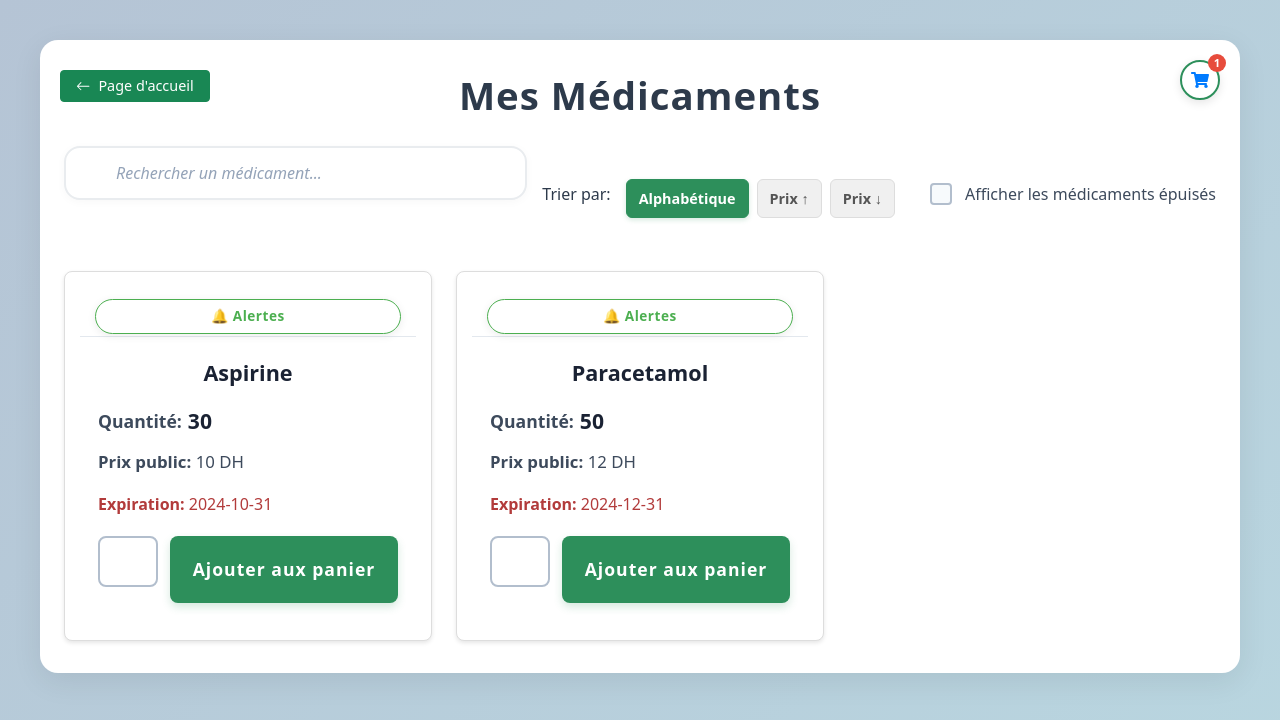
MesMedicaments Component › filters medicaments by search term
Expected: the heading "Mes Médicaments" is shown, [459, 69, 821, 121]
# Type in the search box
Type "para" into the field with placeholder "Rechercher un médicament..." at (296, 173), box [64, 146, 527, 200]
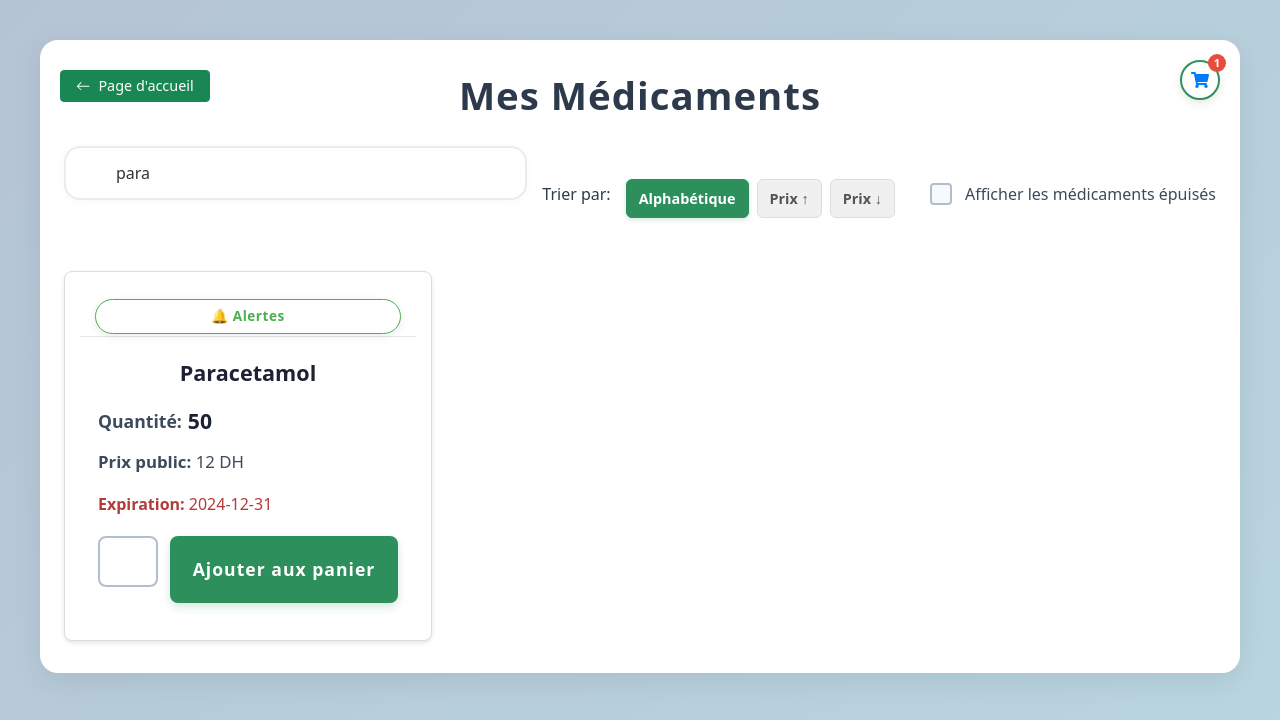
Expected: the text "Paracetamol" is shown, [180, 358, 316, 387]
Now the text "Aspirine" is gone
